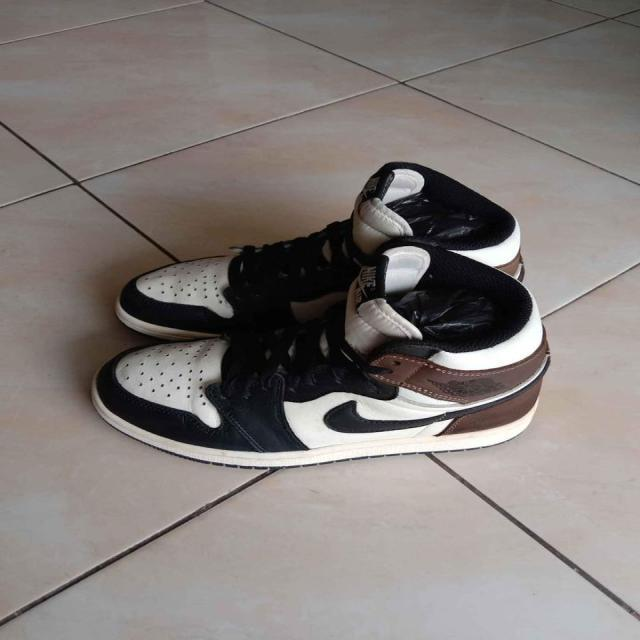nike fake jordan 1: (90, 237, 551, 470), (110, 159, 526, 344)
